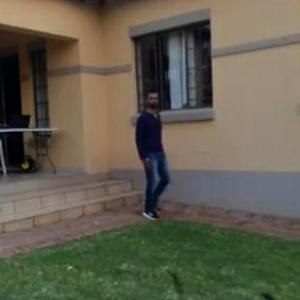follow: (144, 96, 170, 188)
